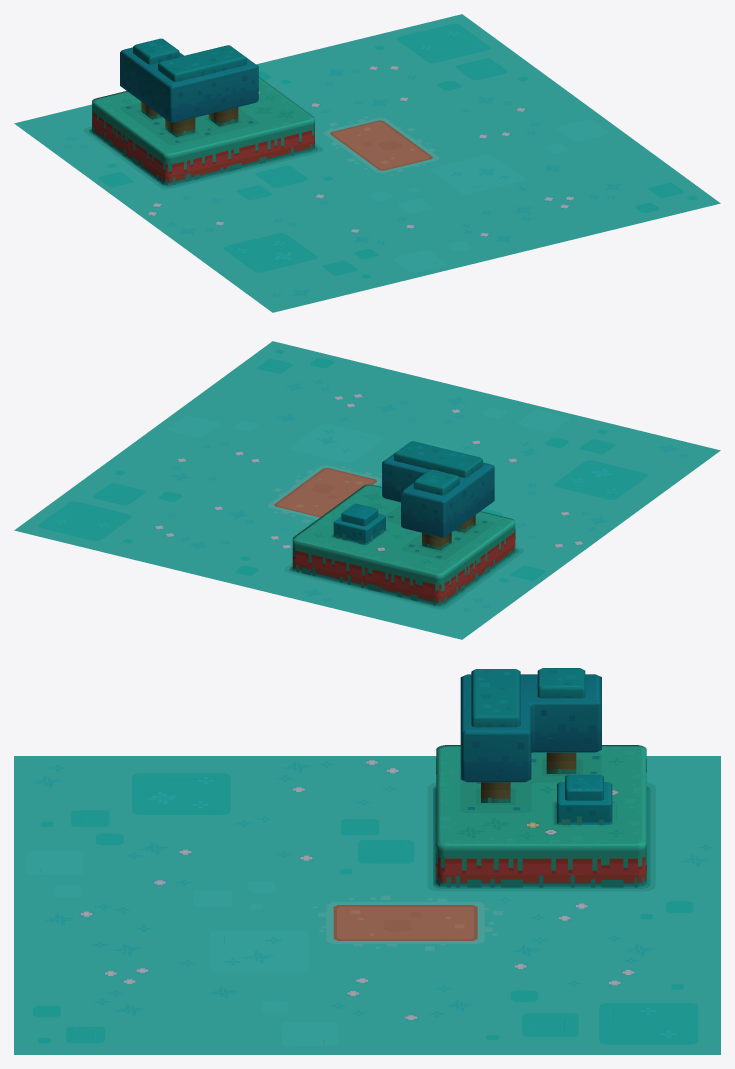
File: C_forest1_02.fbx
3 views of the same model, one above another, from view 1: azimuth 30°, elevation 25°; view 2: azimuth 150°, elevation 25°; view 3: azimuth 270°, elevation 25° (orthographic). The views are drawn at different scales.
Parts seen in each view (by area): view 1: C_forest1_02; view 2: C_forest1_02; view 3: C_forest1_02.
Part boxes in pixels (x1=…): C_forest1_02: x1=14, y1=14, x2=720, y2=312; C_forest1_02: x1=14, y1=341, x2=720, y2=639; C_forest1_02: x1=14, y1=668, x2=720, y2=1054.
Bounding box in the file's own units: 50 × 10.52 × 50.
